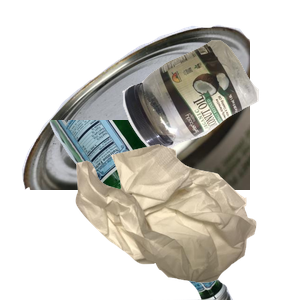glass: (37, 120, 262, 300)
metal: (19, 22, 259, 202)
plastic: (120, 37, 300, 185)
trash: (73, 142, 300, 300)
